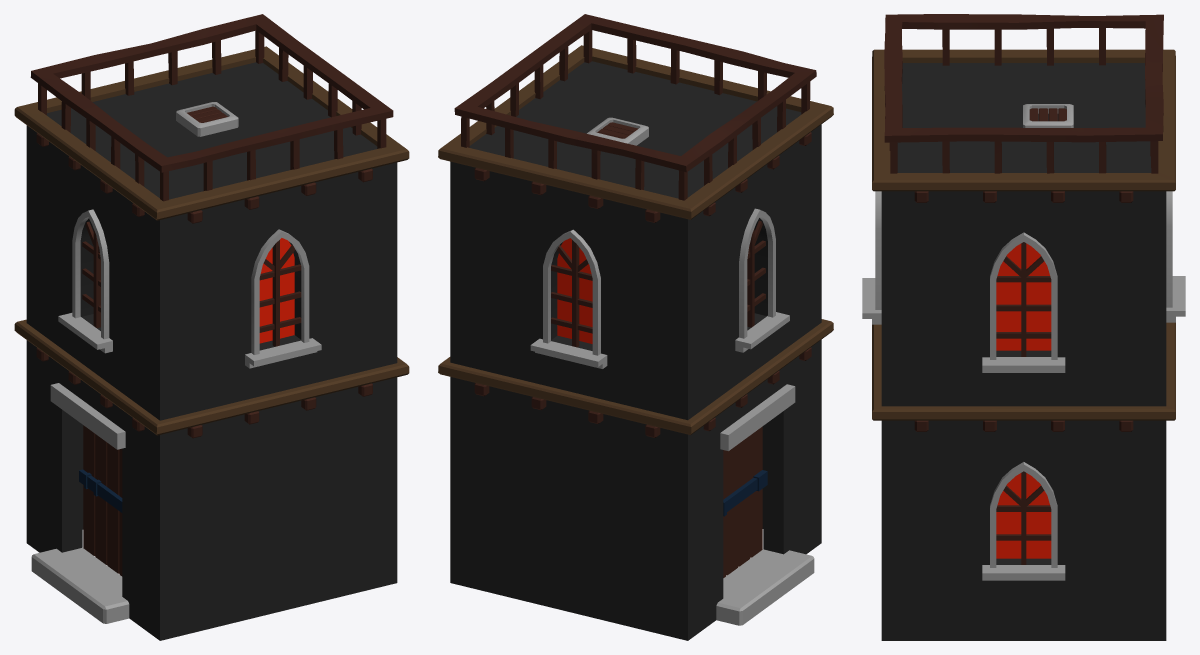
The model's file is civilian_house_35_b.FBX.
3 renders of one model, left to right at view 1: azimuth 30°, elevation 25°; view 2: azimuth 150°, elevation 25°; view 3: azimuth 270°, elevation 25°, orthographic. The views are drawn at different scales.
Parts seen in each view (by area): view 1: civilian_house_35_b; view 2: civilian_house_35_b; view 3: civilian_house_35_b.
Boxes of the visible parts, bbox=[...] form: civilian_house_35_b: bbox=[14, 14, 409, 640]; civilian_house_35_b: bbox=[438, 14, 833, 640]; civilian_house_35_b: bbox=[862, 14, 1185, 640].
Size of the model in its own units: 541 by 882 by 511.
